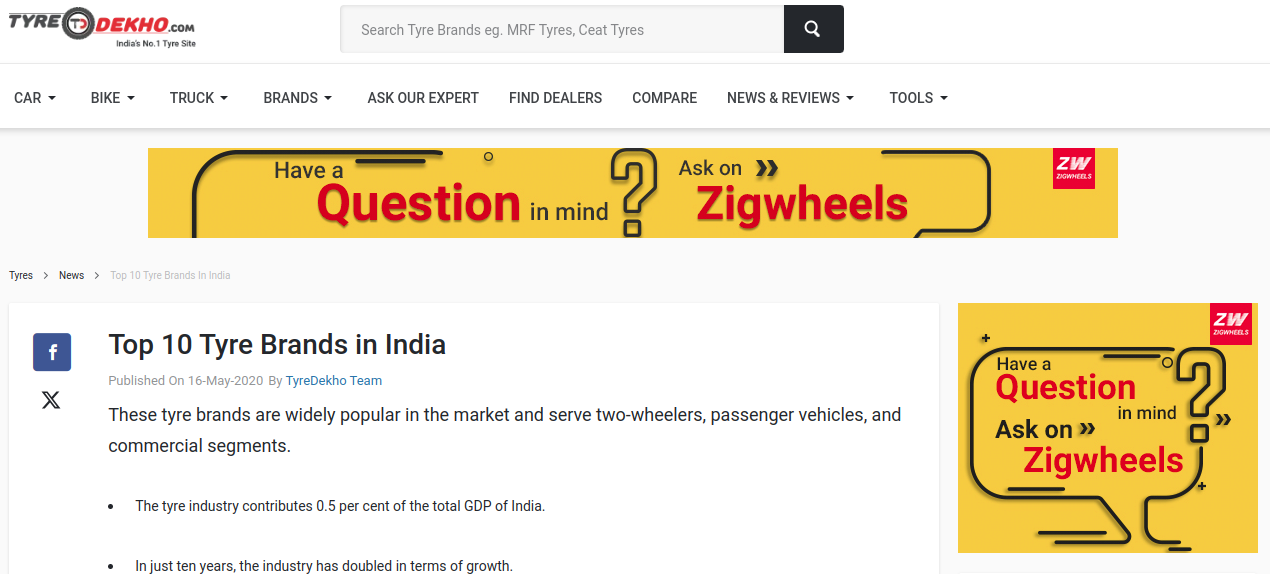menu-bar: (4, 7, 1268, 147)
